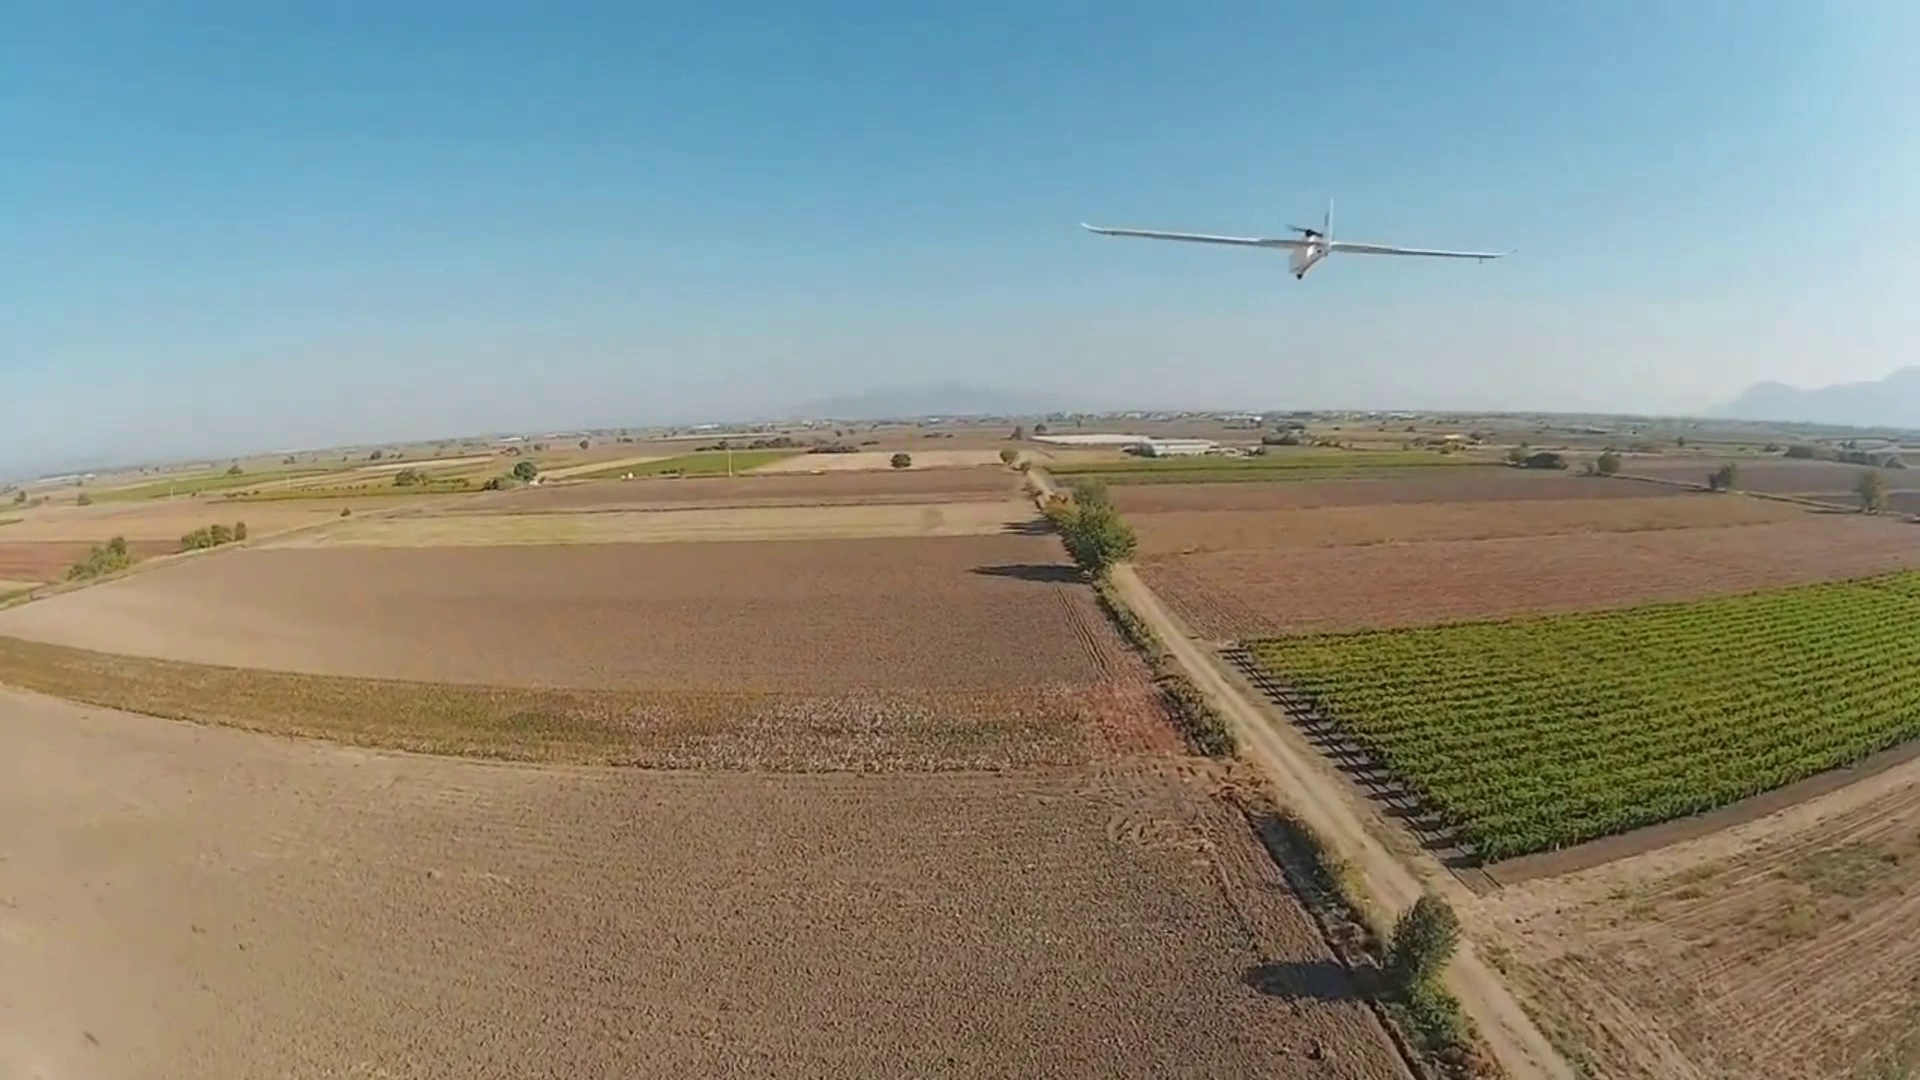airplane: (1084, 208, 1510, 280)
